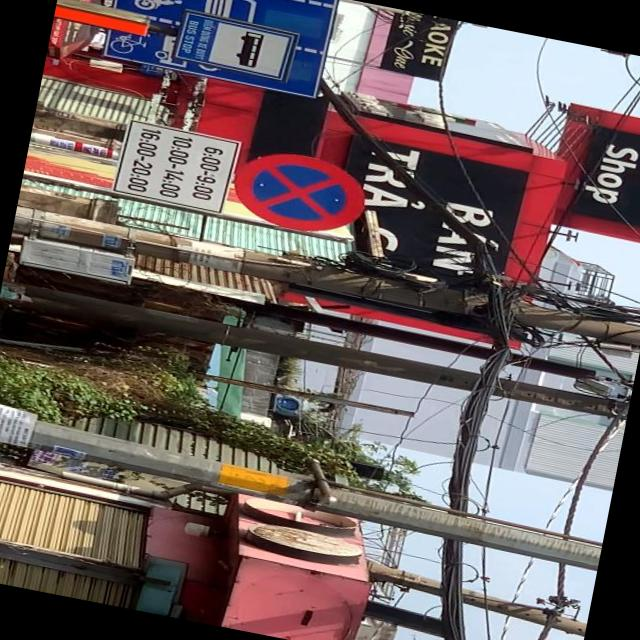I-434a: (172, 14, 298, 82)
P-130: (225, 144, 372, 242)
